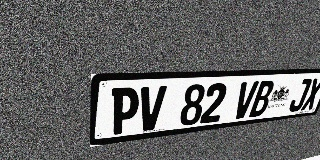2: (200, 83, 228, 124)
8: (178, 84, 208, 126)
B: (249, 80, 276, 117)
J: (287, 78, 313, 112)
P: (110, 87, 140, 135)
V: (137, 86, 167, 132), (231, 81, 259, 120)
X: (300, 78, 320, 111)
